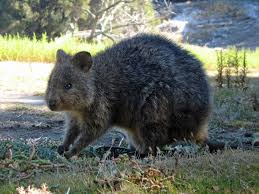quokka: (40, 31, 226, 159)
